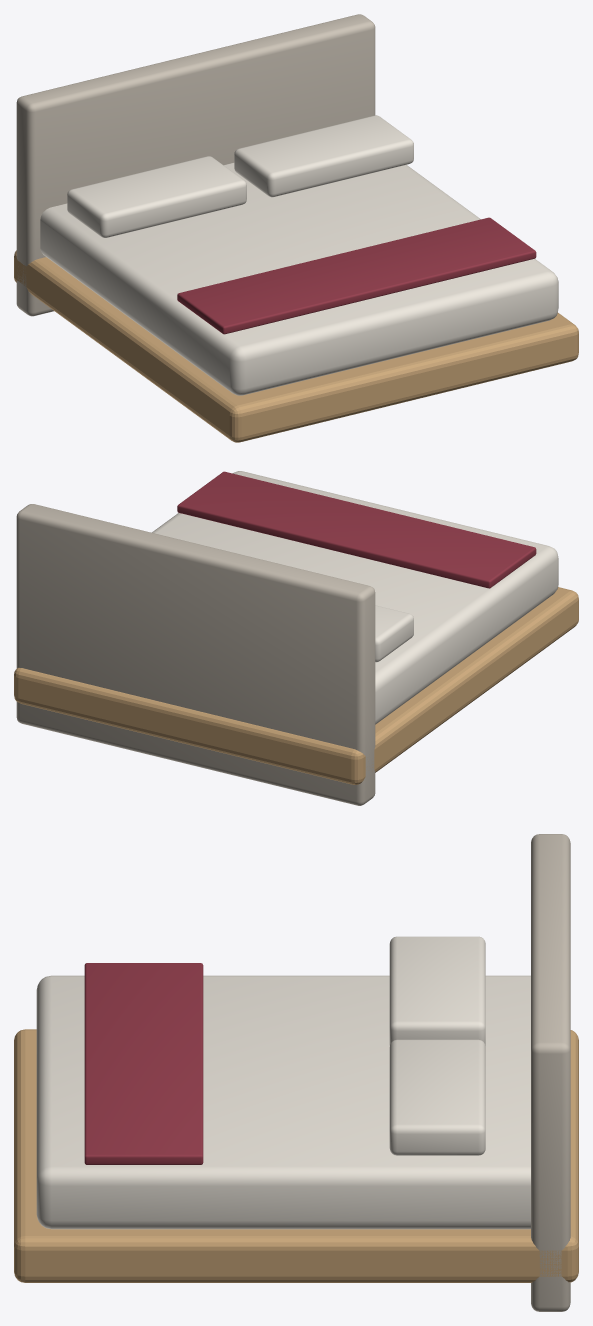
File: double-bed.glb
The picture shows the model from 3 angles, top to bottom: view 1: azimuth 30°, elevation 25°; view 2: azimuth 150°, elevation 25°; view 3: azimuth 270°, elevation 25°; orthographic projection. The views are drawn at different scales.
Visible parts, largest first — view 1: CANONICAL mattress, CANONICAL headboard, CANONICAL bed frame, ACCENT runner, ACCENT pillow, ACCENT pillow.001; view 2: CANONICAL headboard, CANONICAL bed frame, CANONICAL mattress, ACCENT runner, ACCENT pillow; view 3: CANONICAL mattress, CANONICAL bed frame, ACCENT runner, CANONICAL headboard, ACCENT pillow.001, ACCENT pillow.
Part boxes in pixels (box(x1,y1,x2,y2)): CANONICAL mattress: box(40, 163, 558, 395); CANONICAL headboard: box(16, 14, 375, 316); CANONICAL bed frame: box(14, 250, 578, 442); ACCENT runner: box(177, 217, 536, 334); ACCENT pillow: box(67, 156, 246, 237); ACCENT pillow.001: box(234, 115, 413, 197); CANONICAL headboard: box(16, 504, 375, 805); CANONICAL bed frame: box(14, 587, 578, 784); CANONICAL mattress: box(152, 471, 558, 724); ACCENT runner: box(177, 471, 536, 588); ACCENT pillow: box(375, 605, 413, 662); CANONICAL mattress: box(36, 975, 530, 1229); CANONICAL bed frame: box(14, 1029, 578, 1282); ACCENT runner: box(84, 963, 203, 1164); CANONICAL headboard: box(531, 834, 570, 1311); ACCENT pillow.001: box(389, 1039, 485, 1155); ACCENT pillow: box(389, 936, 485, 1045).
Size of the model in its own units: 1.8 by 1.05 by 2.
